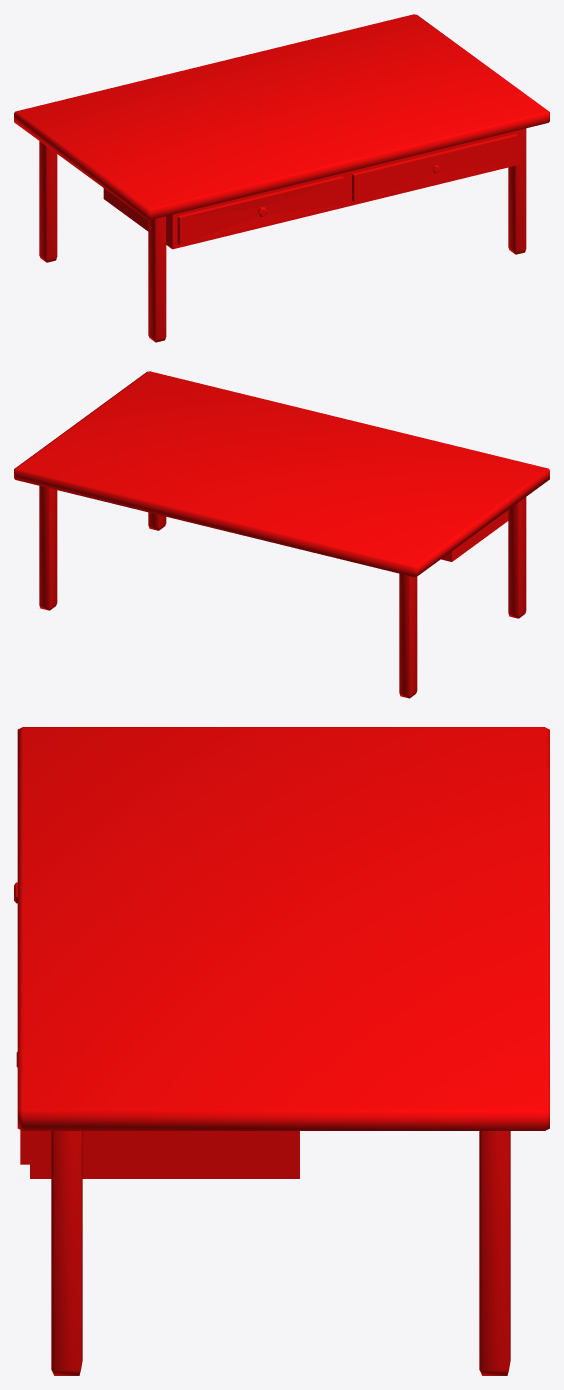
File: NewTable.fbx
The picture shows the model from 3 angles, top to bottom: view 1: azimuth 30°, elevation 25°; view 2: azimuth 150°, elevation 25°; view 3: azimuth 270°, elevation 25°; orthographic projection. The views are drawn at different scales.
Visible parts, largest first — view 1: Cube; view 2: Cube; view 3: Cube.
Boxes of the visible parts, x1=… form: Cube: x1=14, y1=14, x2=549, y2=342; Cube: x1=14, y1=371, x2=549, y2=698; Cube: x1=14, y1=727, x2=549, y2=1375.
Size of the model in its own units: 253 by 85.84 by 148.
